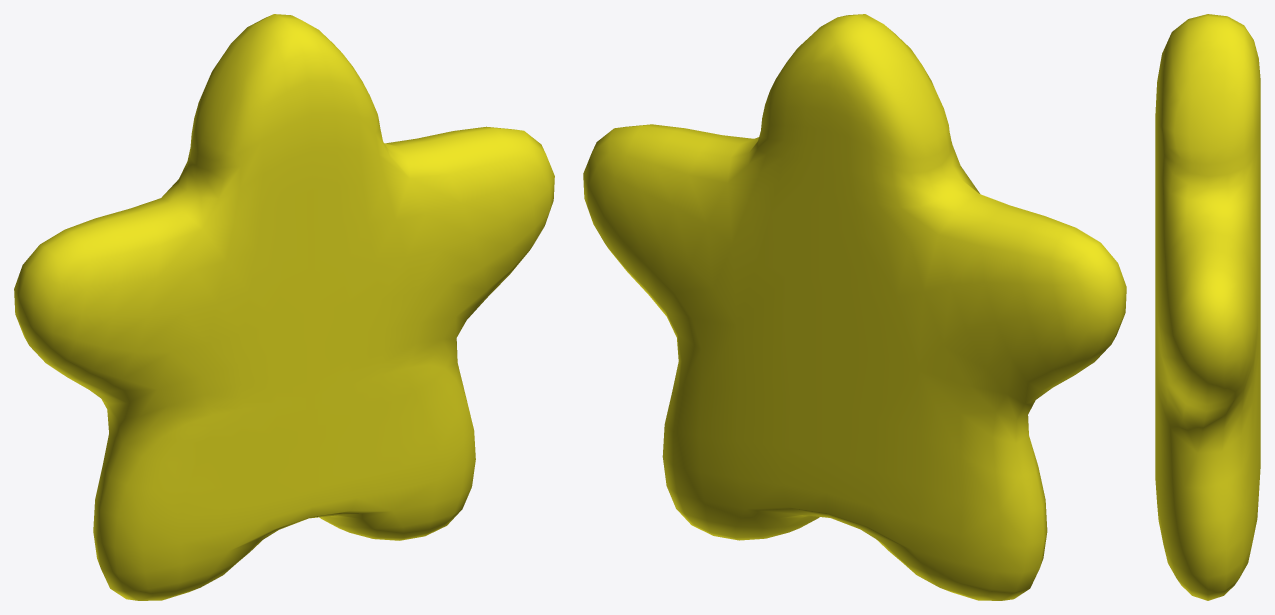
Rendered from star.glb.
3 renders of one model, left to right at view 1: azimuth 30°, elevation 25°; view 2: azimuth 150°, elevation 25°; view 3: azimuth 270°, elevation 25°, orthographic. The views are drawn at different scales.
Visible parts, largest first — view 1: pCube1; view 2: pCube1; view 3: pCube1.
Part boxes in pixels (left/top/right/bottom): pCube1: left=14, top=14, right=554, bottom=600; pCube1: left=583, top=14, right=1126, bottom=600; pCube1: left=1155, top=14, right=1260, bottom=600.
Size of the model in its own units: 0.132 by 0.13 by 0.024.
